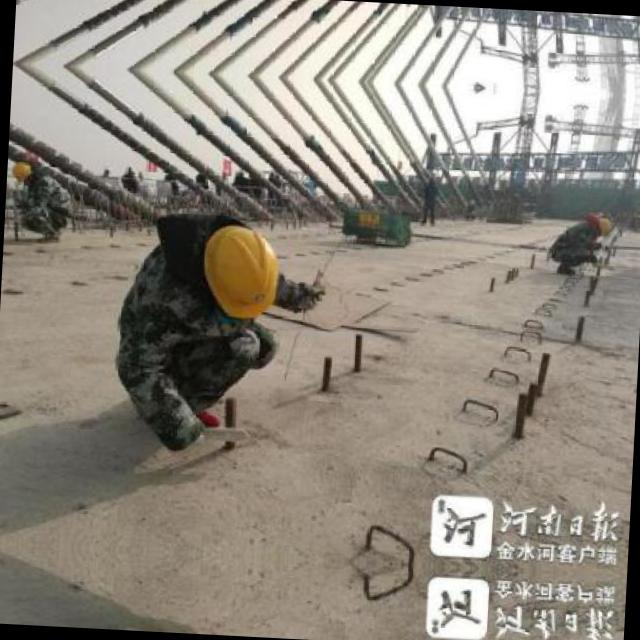helmet: (192, 220, 288, 320), (8, 157, 38, 183), (589, 212, 616, 235)
